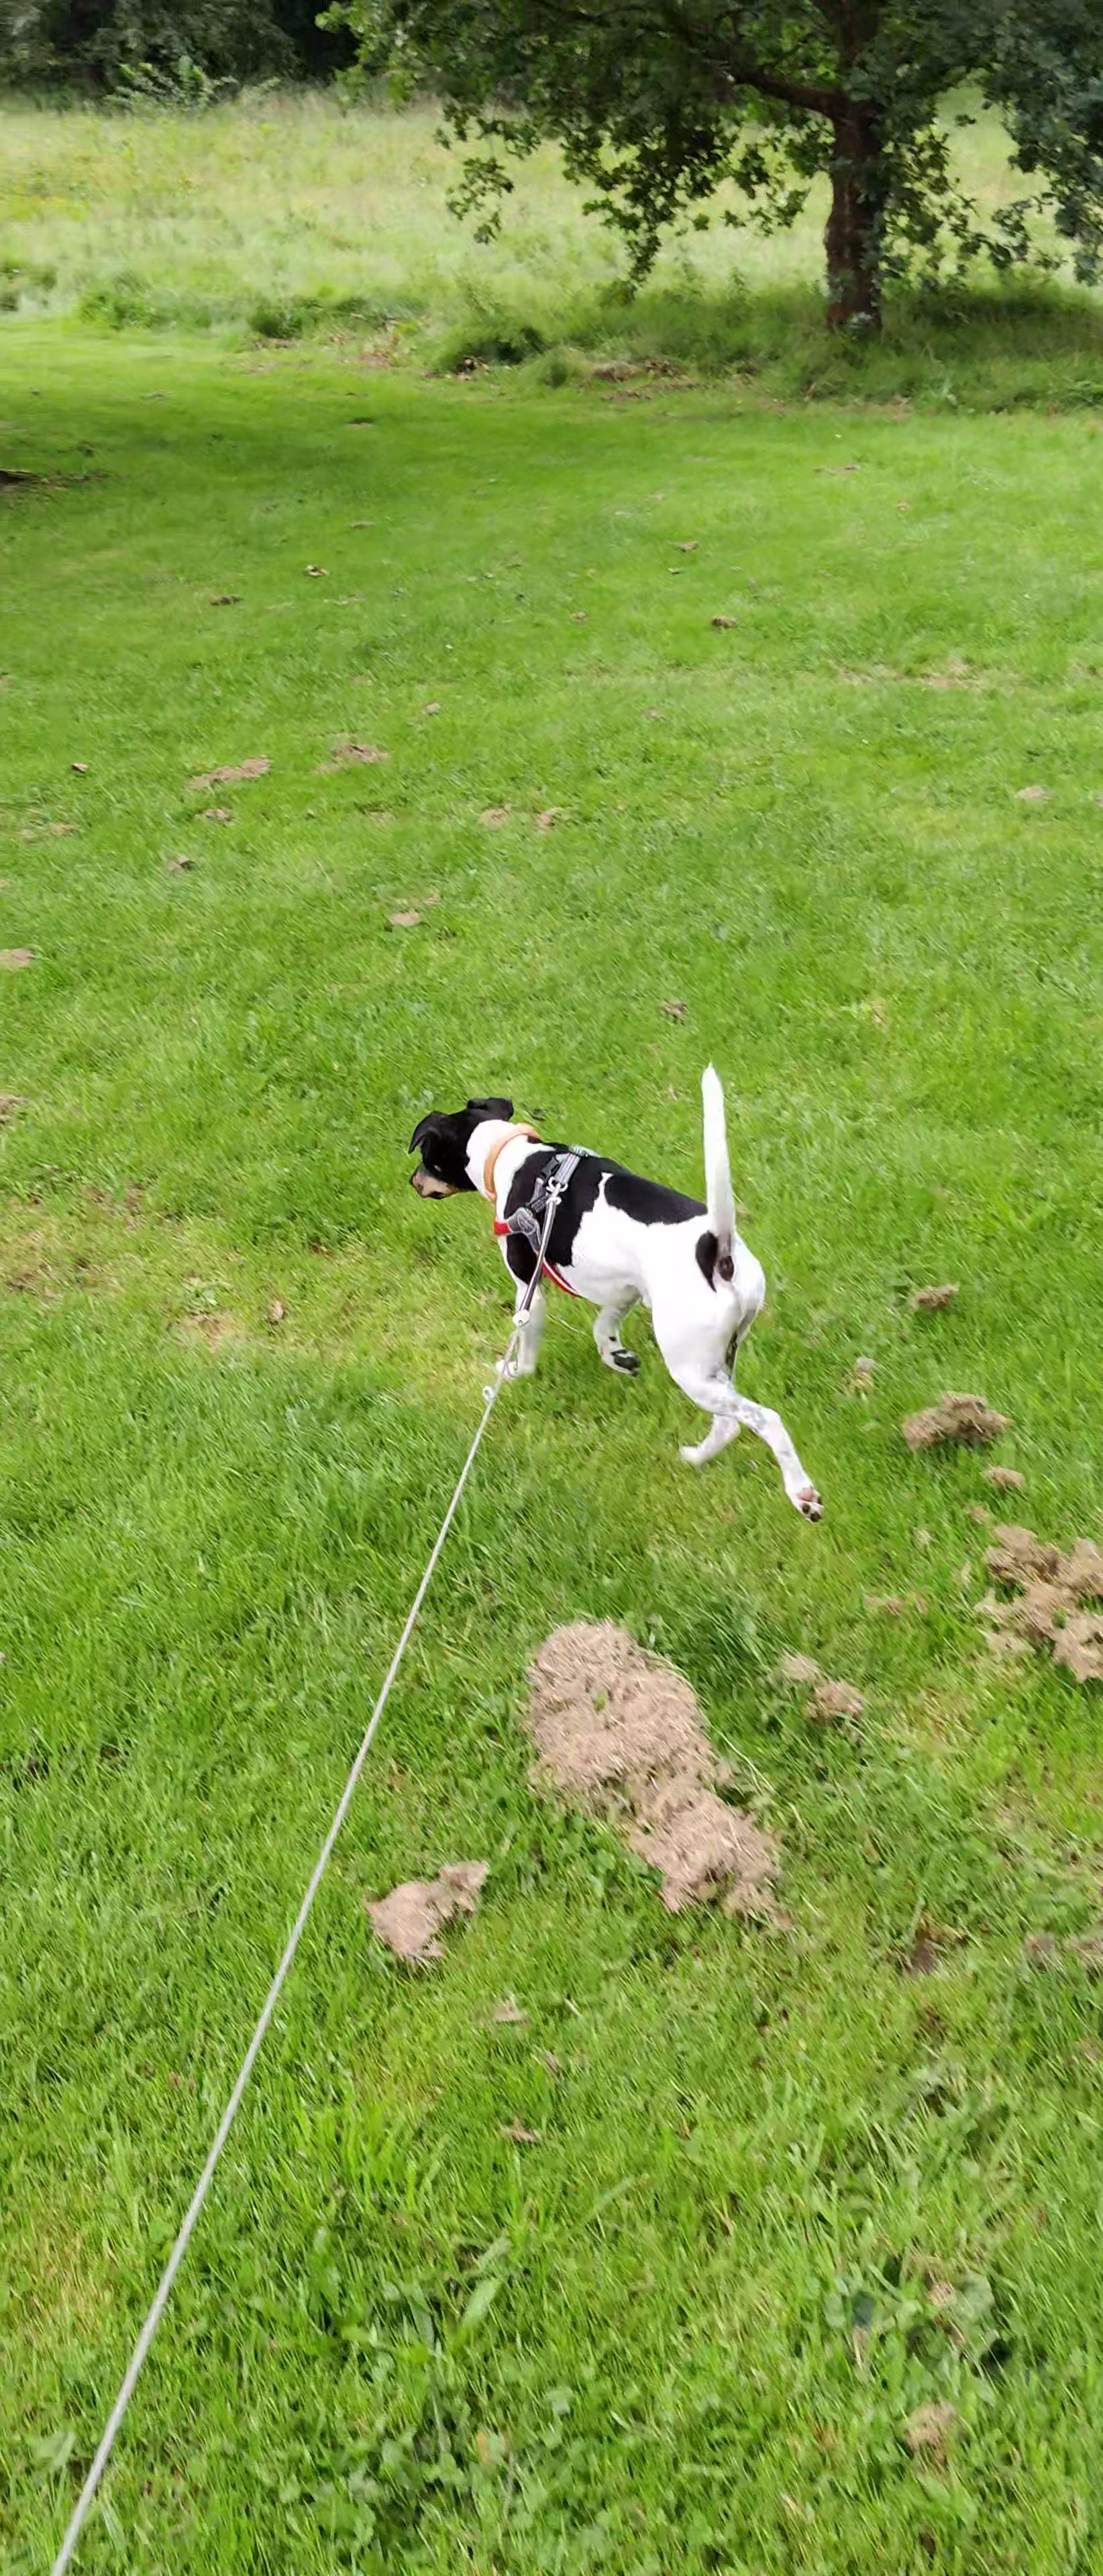Dog: (398, 1055, 825, 1520)
